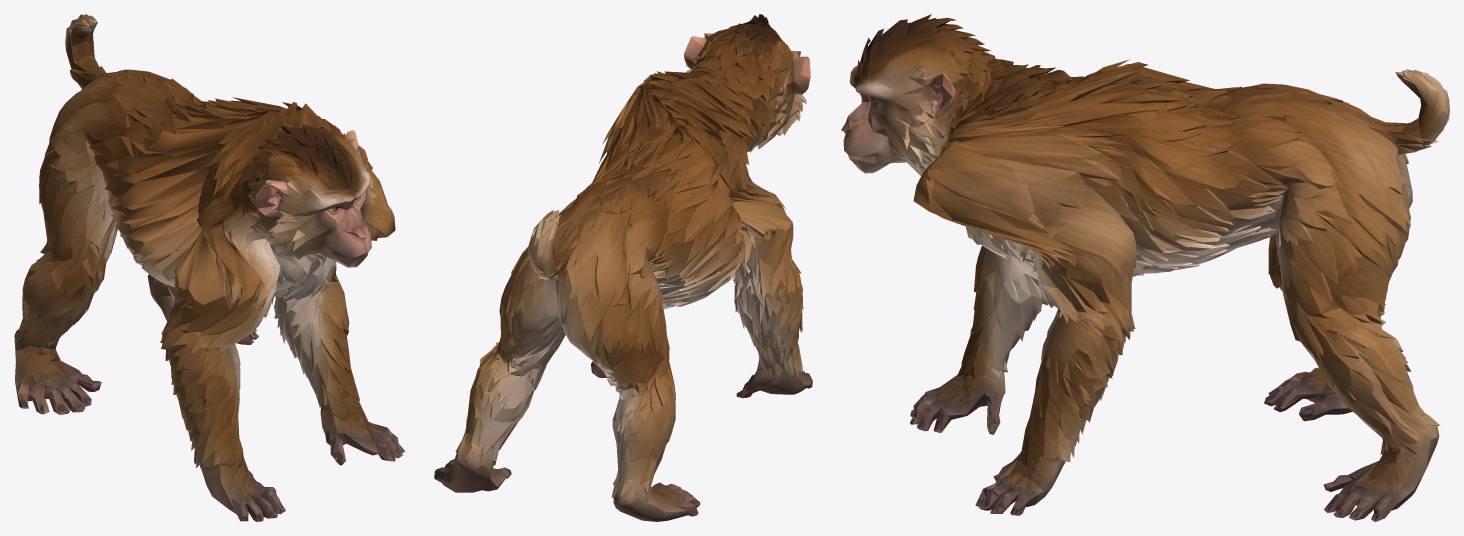
Rendered from monkey.glb.
The picture shows the model from 3 angles, left to right: view 1: azimuth 30°, elevation 25°; view 2: azimuth 150°, elevation 25°; view 3: azimuth 270°, elevation 25°; orthographic projection. The views are drawn at different scales.
Visible parts, largest first — view 1: MacaqueNeckV4Surface; view 2: MacaqueNeckV4Surface; view 3: MacaqueNeckV4Surface.
Boxes of the visible parts, x1=… form: MacaqueNeckV4Surface: x1=14, y1=14, x2=405, y2=521; MacaqueNeckV4Surface: x1=434, y1=14, x2=812, y2=521; MacaqueNeckV4Surface: x1=841, y1=14, x2=1449, y2=521.
Size of the model in its own units: 1.13 by 1.59 by 2.06.
Materials: 1 (1 with a texture image).
